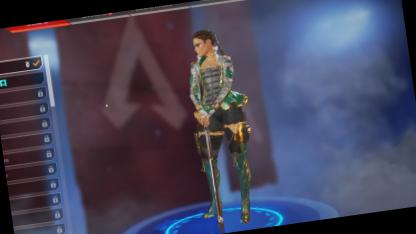Target: (183, 23, 254, 192)
